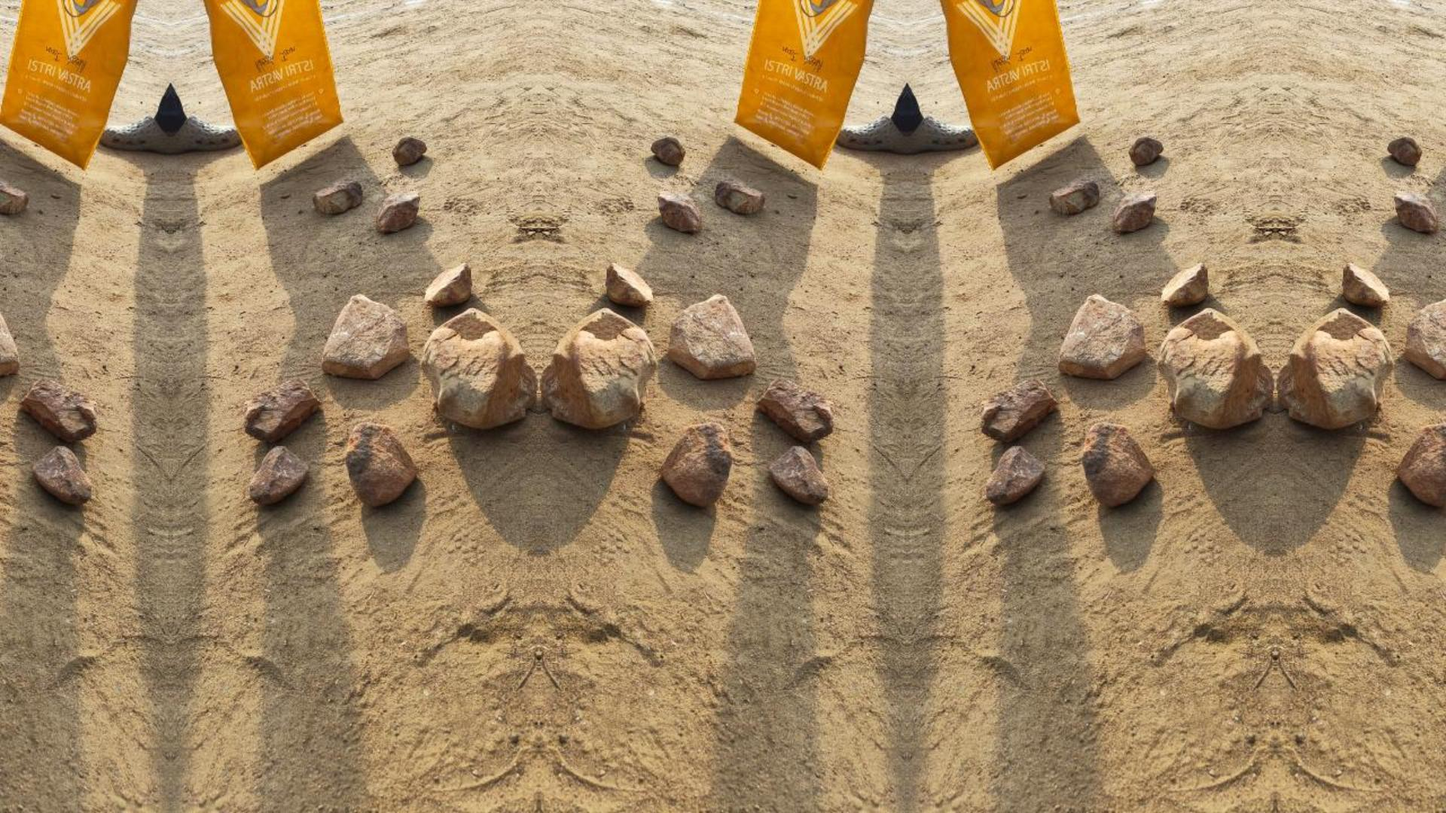rock: (1156, 308, 1273, 428), (540, 307, 655, 428), (1278, 307, 1392, 428), (423, 308, 537, 428), (322, 294, 409, 378), (667, 295, 755, 378), (1059, 295, 1147, 378), (660, 421, 731, 506), (346, 422, 417, 506), (1081, 422, 1152, 506), (757, 378, 833, 442), (244, 378, 320, 442), (20, 378, 96, 442), (981, 378, 1056, 442), (1396, 421, 1445, 507), (985, 445, 1044, 505), (33, 446, 92, 505), (249, 446, 307, 505), (769, 446, 827, 504), (1404, 300, 1445, 378), (1342, 263, 1388, 308), (425, 262, 471, 306), (1161, 263, 1208, 306), (606, 263, 652, 306), (375, 191, 419, 233), (657, 192, 702, 233), (714, 178, 766, 213), (1112, 192, 1156, 233), (1394, 192, 1438, 233), (1048, 180, 1099, 215), (313, 180, 362, 213), (0, 313, 18, 376), (651, 137, 685, 166), (1386, 137, 1421, 165), (1130, 137, 1162, 167), (392, 137, 426, 165), (0, 181, 28, 215)
